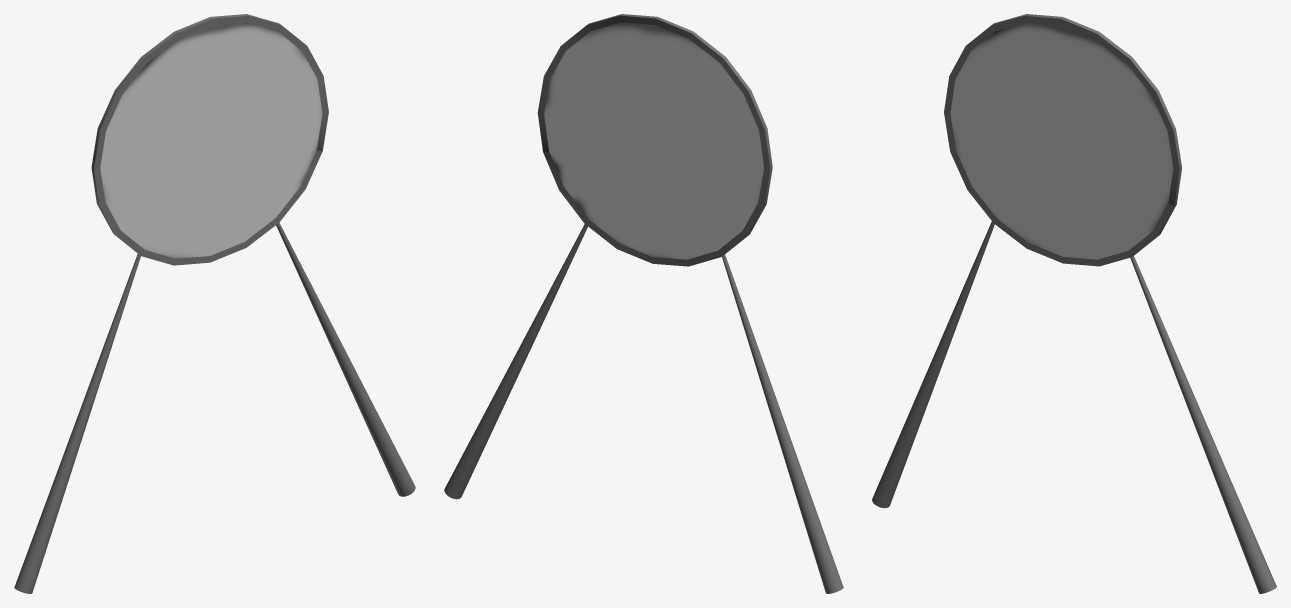
The model's file is Lighthouse_lens.fbx.
3 renders of one model, left to right at view 1: azimuth 30°, elevation 25°; view 2: azimuth 150°, elevation 25°; view 3: azimuth 330°, elevation 25°, orthographic.
Parts seen in each view (by area): view 1: lighthouse_Lens; view 2: lighthouse_Lens; view 3: lighthouse_Lens.
Boxes of the visible parts, <box> form: lighthouse_Lens: <box>14,14,415,593</box>; lighthouse_Lens: <box>444,14,843,593</box>; lighthouse_Lens: <box>872,14,1276,593</box>.
Size of the model in its own units: 51.84 by 66.15 by 2.51.
2 materials, 2 textured.
